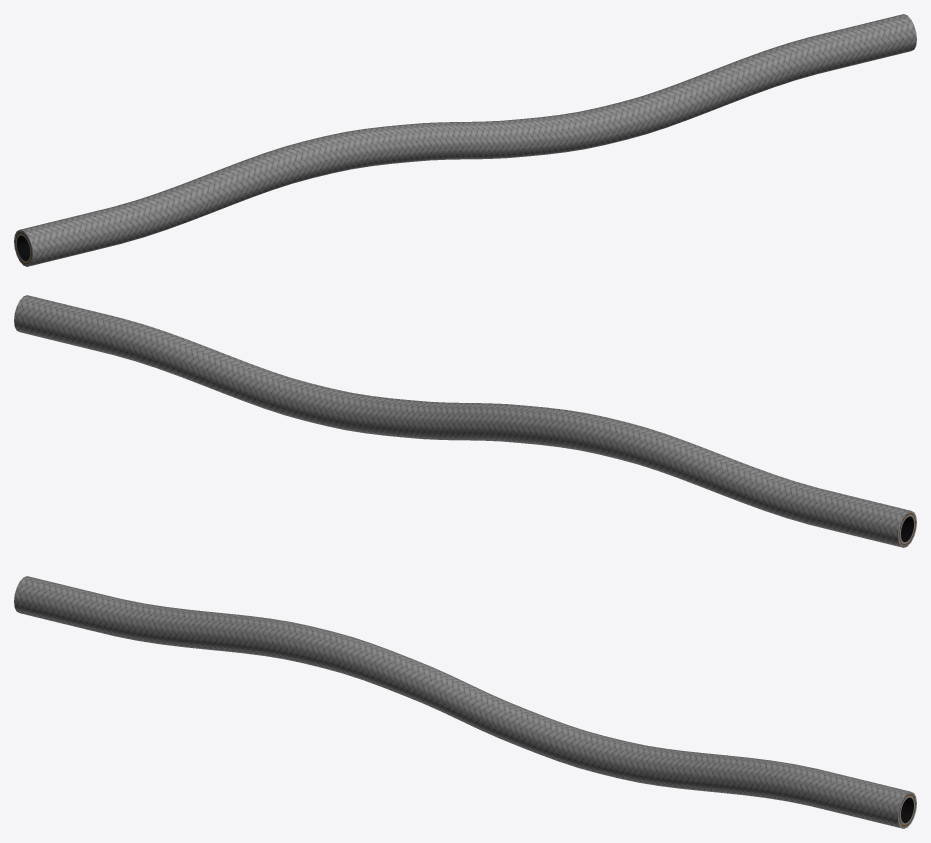
3 views of the same model, one above another, from view 1: azimuth 30°, elevation 25°; view 2: azimuth 150°, elevation 25°; view 3: azimuth 330°, elevation 25° (orthographic).
Parts seen in each view (by area): view 1: SB_SS-06; view 2: SB_SS-06; view 3: SB_SS-06.
Part boxes in pixels (box(x1,y1,x2,y2)): SB_SS-06: box(14, 14, 916, 266); SB_SS-06: box(14, 295, 916, 547); SB_SS-06: box(14, 576, 916, 828).
Bounding box in the file's own units: 0.3074 × 0.0242 × 0.0115.
2 materials, 2 textured.
